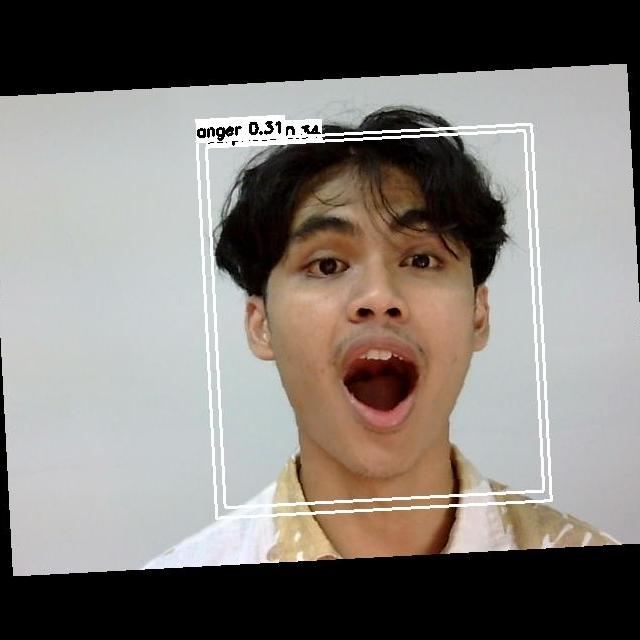Surprised: (282, 210, 475, 436)
